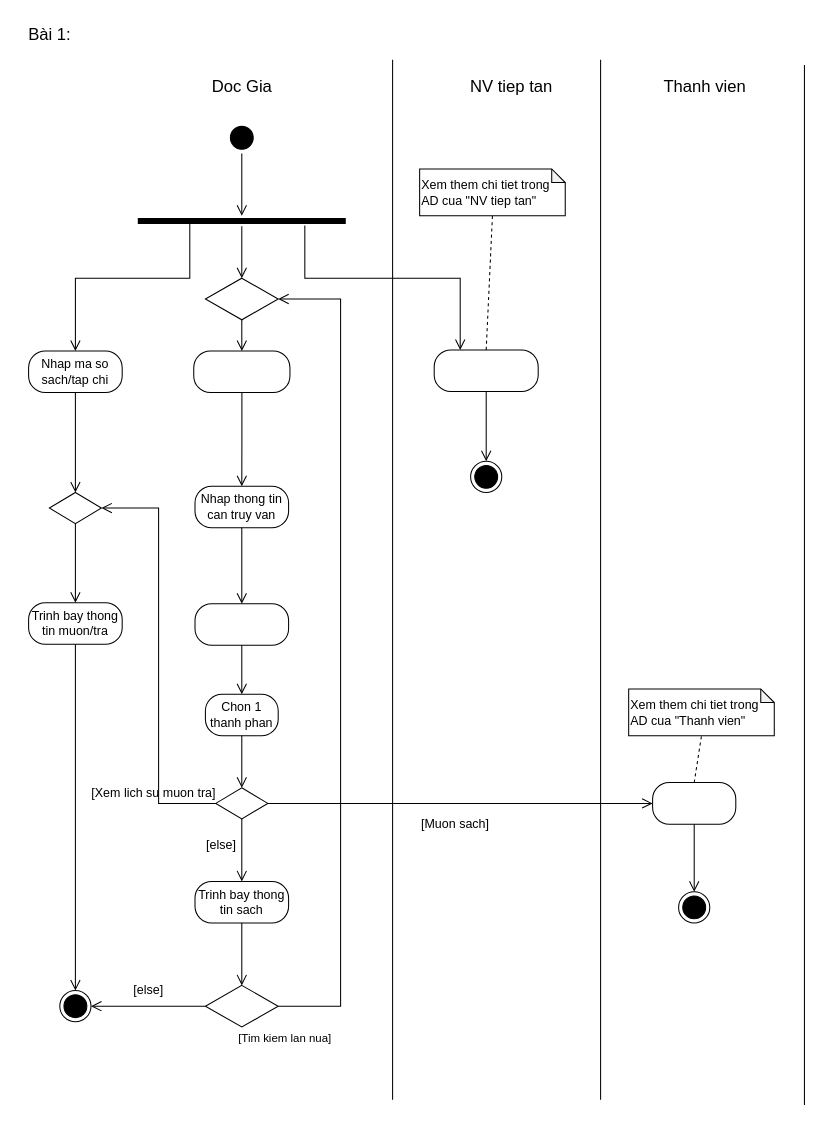
The diagram is 824 pixels wide and 1124 high, and some of its shapes have lost their labels. Here are the shapes that lost their labels. From the top down, the box of each, then its label:
(193, 350, 290, 393): Chon loai tim kiem
(433, 349, 538, 392): Dang ky thanh vien
(194, 603, 289, 645): Liet ke danh sach ket qua
(652, 782, 736, 824): Xu ly muon sach
